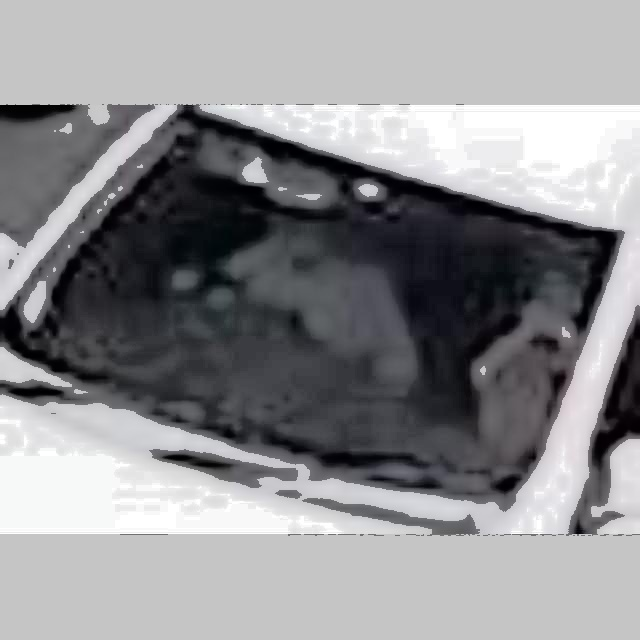tidak-pakai: (175, 200, 407, 403)
